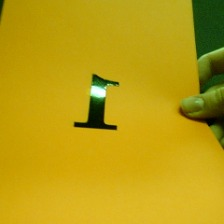orange1: (61, 66, 127, 142)
